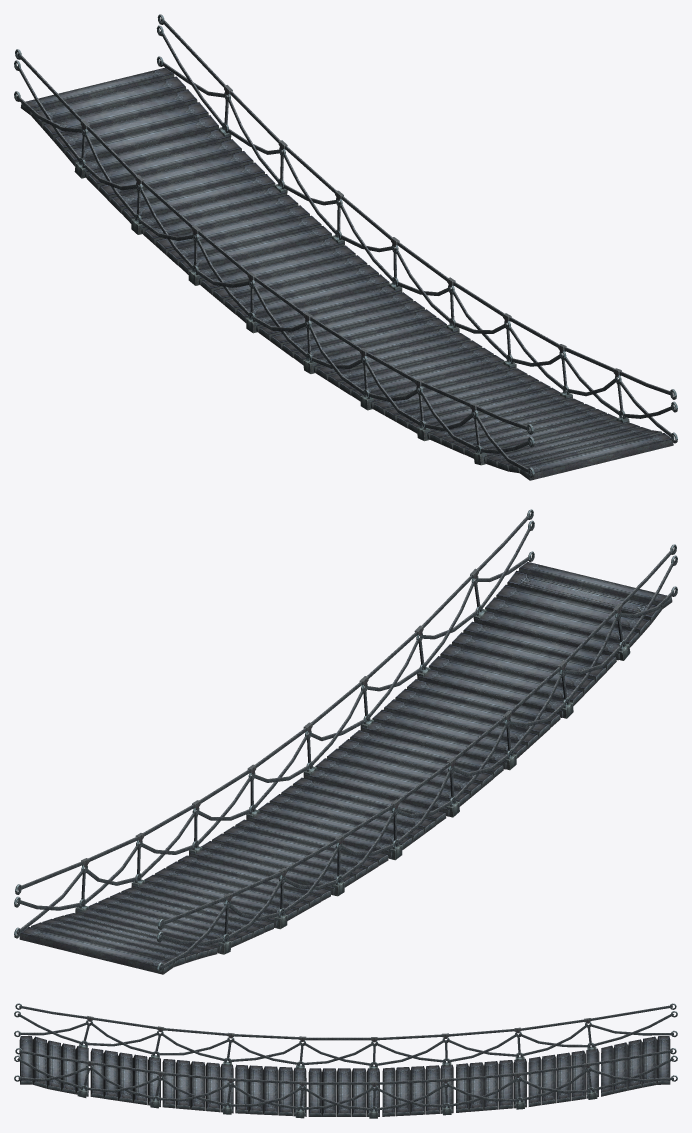
The model's file is steel_bridge_body.fbx.
3 renders of one model, top to bottom at view 1: azimuth 30°, elevation 25°; view 2: azimuth 150°, elevation 25°; view 3: azimuth 270°, elevation 25°, orthographic. The views are drawn at different scales.
Parts seen in each view (by area): view 1: steel_bridge_body; view 2: steel_bridge_body; view 3: steel_bridge_body.
Boxes of the visible parts, bbox=[...] form: steel_bridge_body: bbox=[14, 14, 677, 480]; steel_bridge_body: bbox=[14, 509, 677, 974]; steel_bridge_body: bbox=[14, 1003, 677, 1118].
Size of the model in its own units: 11.42 by 7.99 by 68.78.
